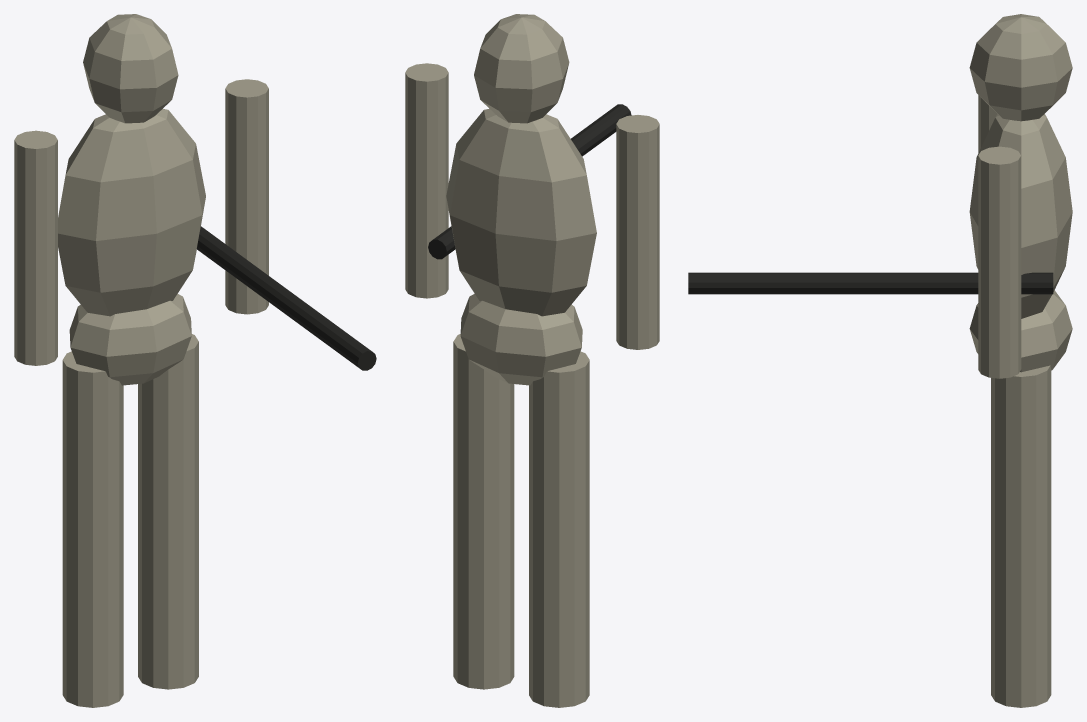
File: ger_rifle.glb
The picture shows the model from 3 angles, left to right: view 1: azimuth 30°, elevation 25°; view 2: azimuth 150°, elevation 25°; view 3: azimuth 270°, elevation 25°; orthographic projection.
Visible parts, largest first — view 1: Torso, Leg_L, Leg_R, Arm_L, Arm_R, Head, Pelvis, Rifle; view 2: Torso, Leg_L, Leg_R, Arm_L, Arm_R, Head, Pelvis, Rifle; view 3: Leg_R, Arm_R, Torso, Head, Rifle, Pelvis.
Boxes of the visible parts, <box> form: Torso: <box>58,109,205,316</box>; Leg_L: <box>62,351,123,707</box>; Leg_R: <box>138,334,198,689</box>; Arm_L: <box>14,130,57,365</box>; Arm_R: <box>225,79,268,314</box>; Head: <box>83,14,178,123</box>; Pelvis: <box>69,294,191,385</box>; Rifle: <box>197,226,376,370</box>; Torso: <box>446,108,596,316</box>; Leg_L: <box>529,351,589,707</box>; Leg_R: <box>453,334,514,689</box>; Arm_L: <box>616,115,659,349</box>; Arm_R: <box>405,63,448,298</box>; Head: <box>474,14,569,123</box>; Pelvis: <box>460,293,582,385</box>; Rifle: <box>428,104,631,259</box>; Leg_R: <box>991,365,1051,707</box>; Arm_R: <box>978,146,1021,378</box>; Torso: <box>969,114,1072,318</box>; Head: <box>969,14,1072,121</box>; Rifle: <box>688,272,1053,294</box>; Pelvis: <box>969,290,1072,372</box>.
Bounding box in the file's own units: 0.66 × 1.7 × 0.895.
